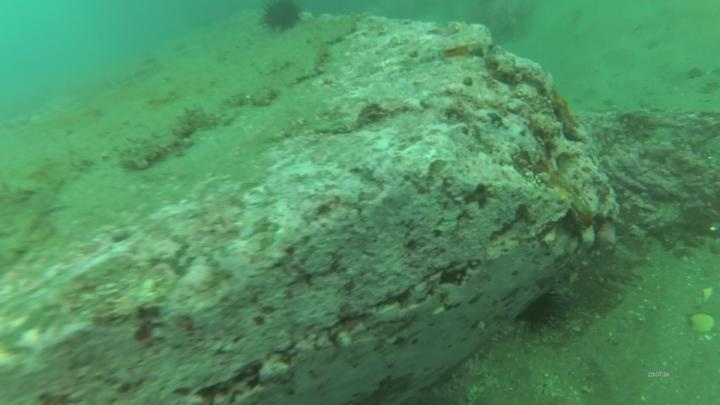echinus: (511, 286, 565, 335), (257, 1, 305, 36)
holothurian: (115, 112, 199, 174), (176, 101, 231, 131)
scallop: (686, 310, 717, 337)
